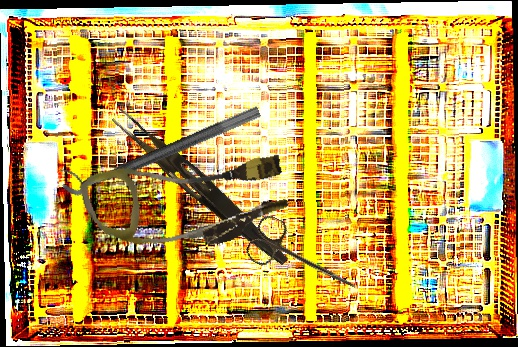Cannula: (77, 130, 296, 273)
Dressing Forceps: (105, 107, 297, 269)
Fixation Ring: (56, 89, 262, 200)
Iris Scissors: (243, 212, 367, 307)
